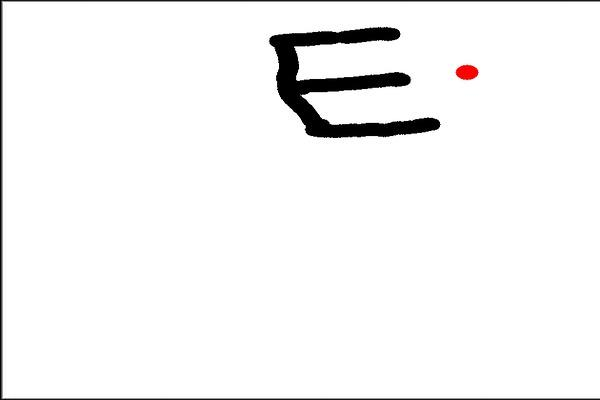E: (266, 21, 445, 142)
